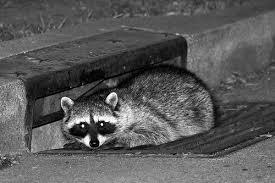raccoon: (42, 61, 224, 156)
